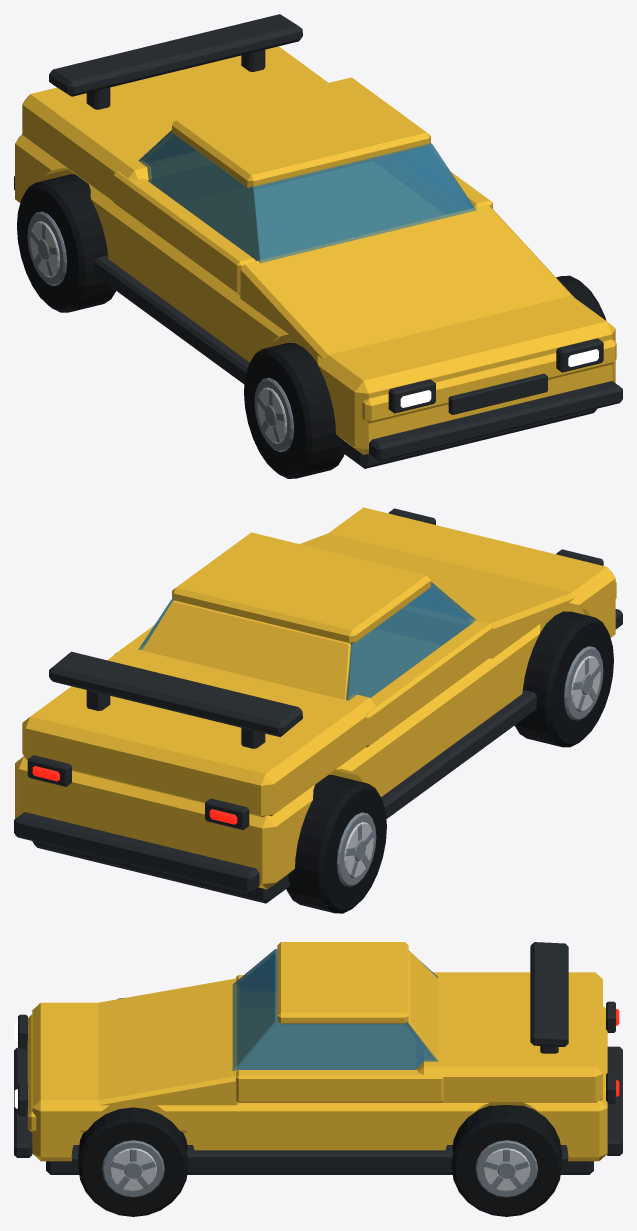
Rendered from SportCar.glb.
The picture shows the model from 3 angles, top to bottom: view 1: azimuth 30°, elevation 25°; view 2: azimuth 150°, elevation 25°; view 3: azimuth 270°, elevation 25°; orthographic projection. The views are drawn at different scales.
Parts seen in each view (by area): view 1: BodyPaint_Mesh, Glass_Mesh, Trim_Mesh, RearWing_Mesh, Wheel_FL_Tire, Wheel_RL_Tire, Wheel_FL_Hub, Wheel_RL_Hub, Wheel_FR_Tire; view 2: BodyPaint_Mesh, Trim_Mesh, RearWing_Mesh, Wheel_RL_Tire, Wheel_FL_Tire, Glass_Mesh, Wheel_RL_Hub, Wheel_FL_Hub; view 3: BodyPaint_Mesh, Trim_Mesh, Glass_Mesh, Wheel_RR_Tire, Wheel_FR_Tire, RearWing_Mesh, Wheel_RR_Hub, Wheel_FR_Hub.
Part boxes in pixels (x1,y1,x2,y2): BodyPaint_Mesh: [15, 46, 616, 454]; Glass_Mesh: [138, 130, 476, 263]; Trim_Mesh: [14, 176, 622, 468]; RearWing_Mesh: [49, 14, 302, 109]; Wheel_FL_Tire: [244, 343, 344, 478]; Wheel_RL_Tire: [17, 174, 115, 312]; Wheel_FL_Hub: [254, 378, 293, 452]; Wheel_RL_Hub: [27, 211, 66, 285]; Wheel_FR_Tire: [556, 275, 606, 320]; BodyPaint_Mesh: [15, 507, 616, 889]; Trim_Mesh: [14, 508, 622, 903]; RearWing_Mesh: [49, 651, 302, 748]; Wheel_RL_Tire: [286, 775, 386, 913]; Wheel_FL_Tire: [514, 611, 613, 747]; Glass_Mesh: [138, 582, 476, 700]; Wheel_RL_Hub: [336, 812, 376, 886]; Wheel_FL_Hub: [564, 646, 603, 720]; BodyPaint_Mesh: [27, 942, 607, 1161]; Trim_Mesh: [14, 1001, 622, 1174]; Glass_Mesh: [232, 949, 438, 1070]; Wheel_RR_Tire: [451, 1105, 561, 1216]; Wheel_FR_Tire: [78, 1107, 188, 1216]; RearWing_Mesh: [530, 942, 568, 1053]; Wheel_RR_Hub: [475, 1140, 537, 1197]; Wheel_FR_Hub: [102, 1140, 164, 1197].
Size of what is drawn, in the model's own units: 1.97 by 1.3 by 3.98.
